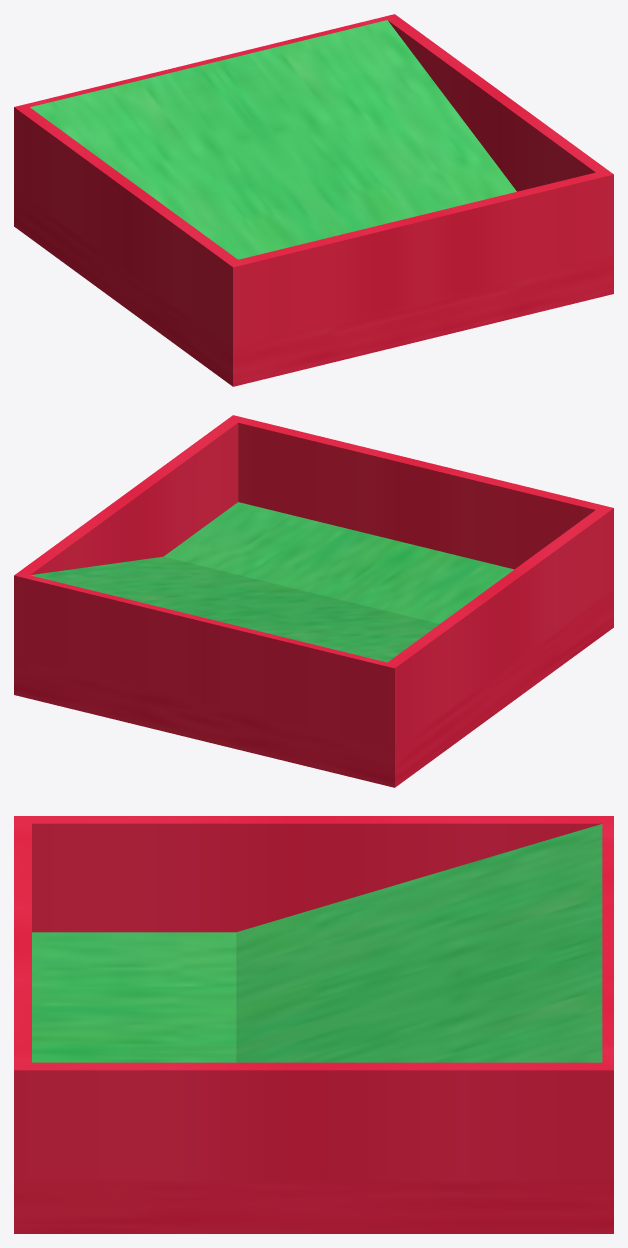
Rendered from Jump_Slope.fbx.
3 views of the same model, one above another, from view 1: azimuth 30°, elevation 25°; view 2: azimuth 150°, elevation 25°; view 3: azimuth 270°, elevation 25° (orthographic). The views are drawn at different scales.
Visible parts, largest first — view 1: Cube.007; view 2: Cube.007; view 3: Cube.007.
Part boxes in pixels (x1,y1,x2,y2): Cube.007: (14, 14, 613, 386); Cube.007: (14, 415, 613, 787); Cube.007: (14, 816, 613, 1233).
Size of the model in its own units: 100 by 30.07 by 99.98.
